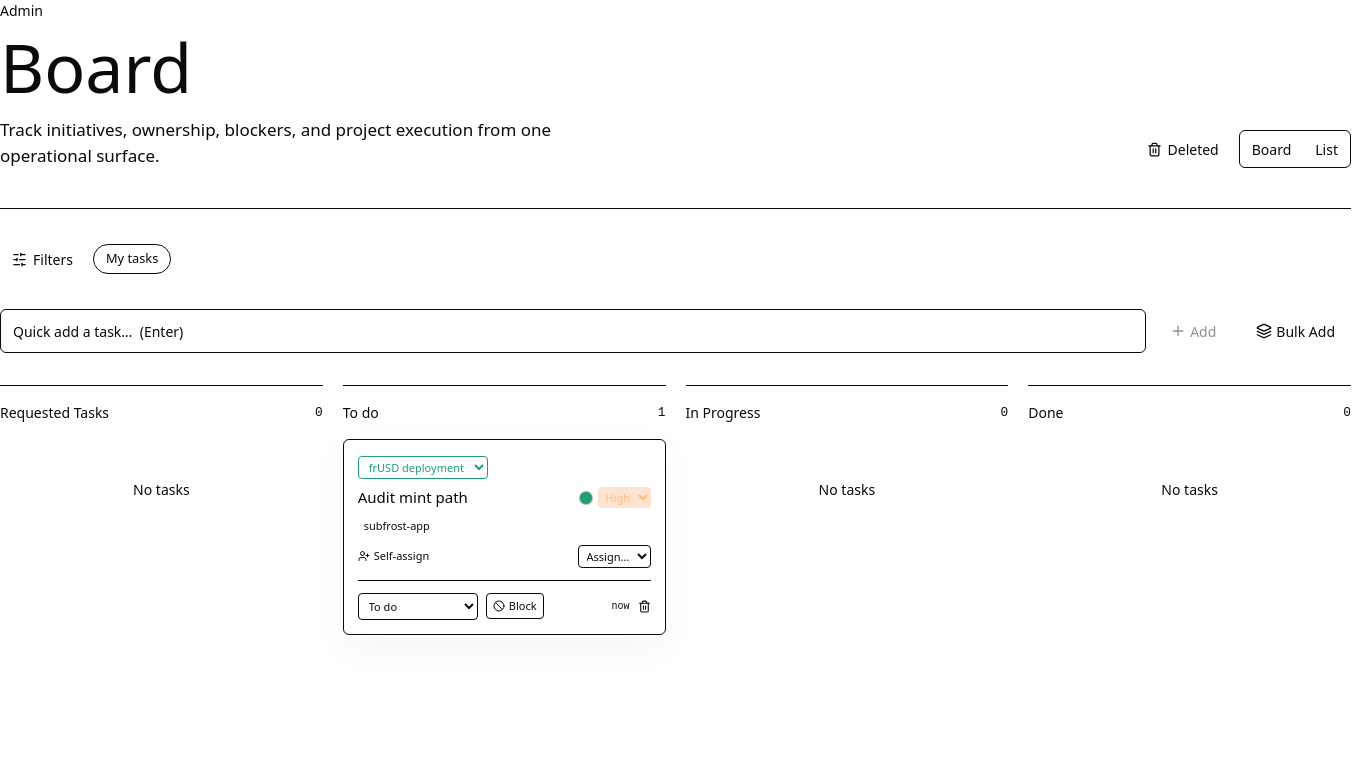
Test: clicking a task title opens the detail panel and loads its comments
This screenshot has width=1366, height=768.
Click the button "Audit mint path". click: (413, 497)
box: [358, 487, 468, 508]
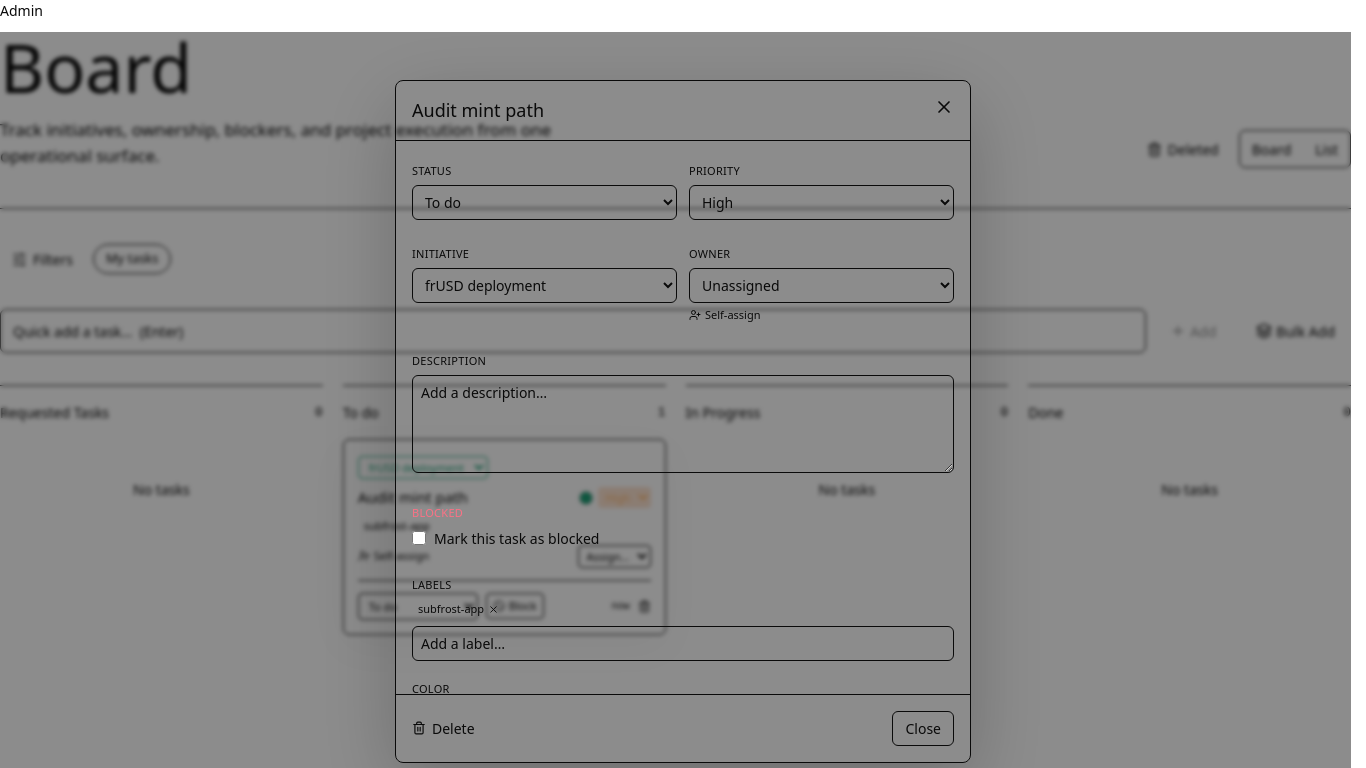
Expected: the button named "Close" is shown, [934, 97, 954, 117]
Expected: the text "Description" is shown, [412, 353, 486, 368]
